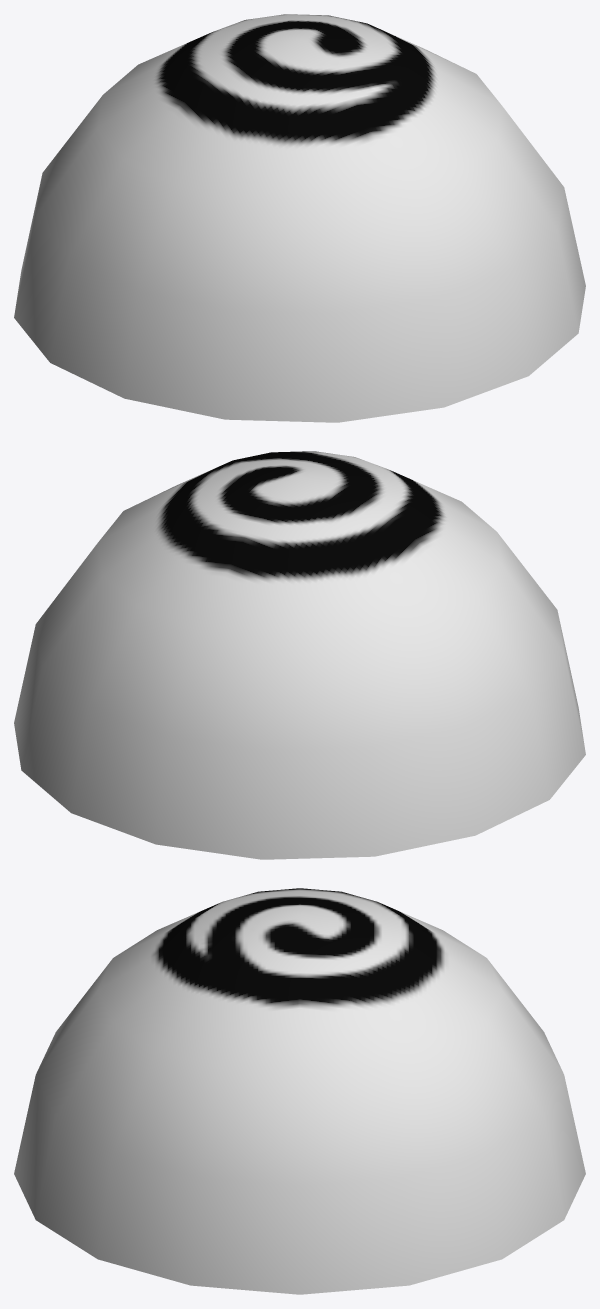
Rendered from Stunned eyes.fbx.
The picture shows the model from 3 angles, top to bottom: view 1: azimuth 30°, elevation 25°; view 2: azimuth 150°, elevation 25°; view 3: azimuth 270°, elevation 25°; orthographic projection.
Visible parts, largest first — view 1: Sphere001; view 2: Sphere001; view 3: Sphere001.
Part boxes in pixels (x1,y1,x2,y2): Sphere001: [14, 14, 585, 422]; Sphere001: [14, 451, 585, 859]; Sphere001: [14, 888, 585, 1294].
Bounding box in the file's own units: 154 × 76.79 × 154.
